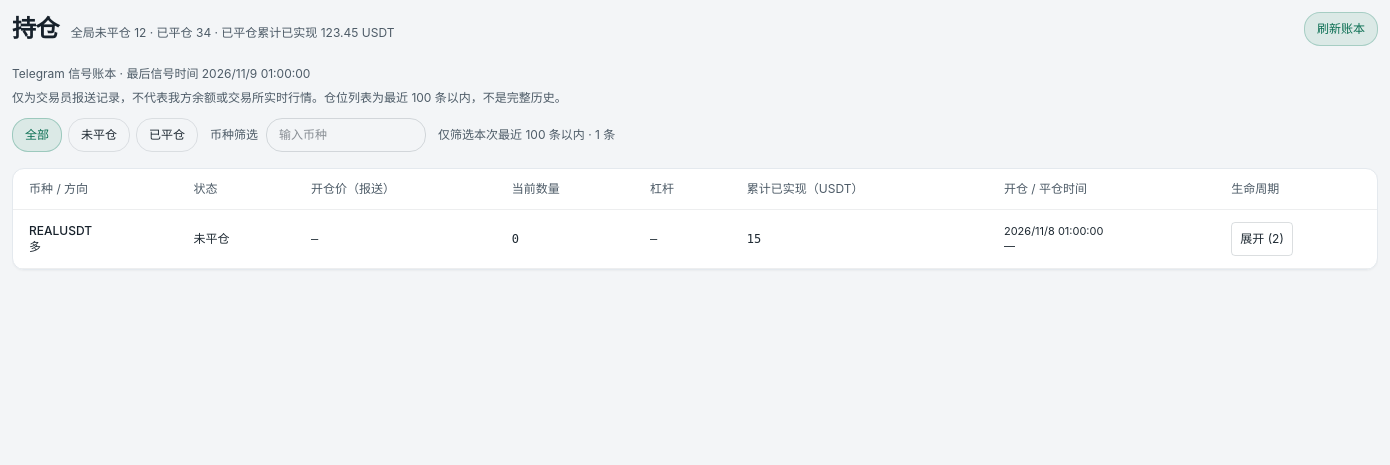
shared ledger › preserves null versus zero and expands cumulative event values without summing
Expected: the text "REALUSDT" is shown, 29,223 -> 92,238
Expected: the row with test id "position-1" shows "—", 311,232 -> 318,246
Click the button with aria-label "展开 REALUSDT 生命周期" at (1262, 239), box 1231,222 -> 1293,256
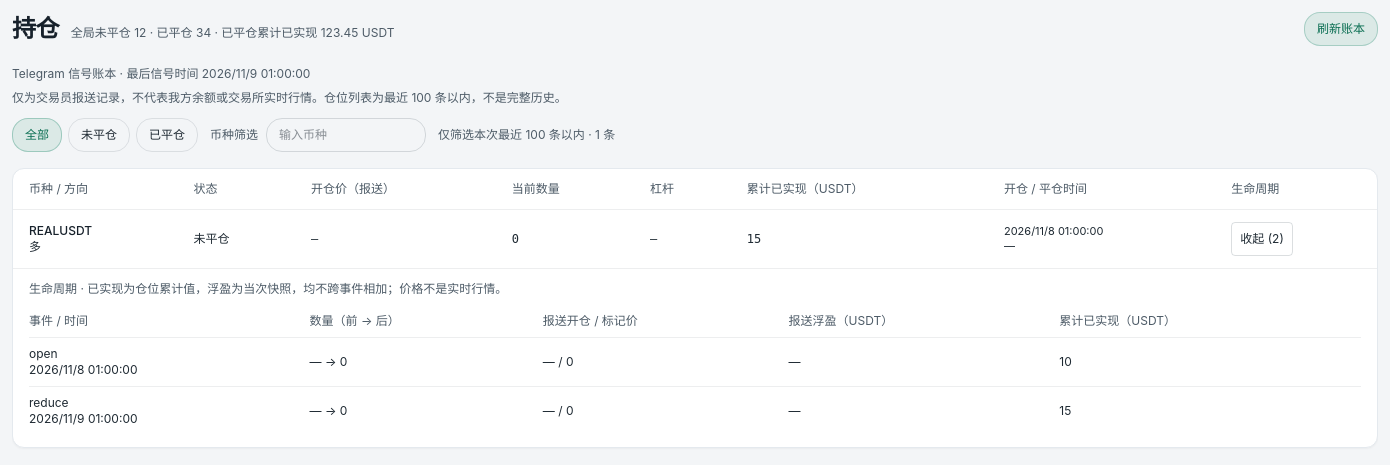
Expected: the text "10" is shown, 1059,338 -> 1361,386
Expected: the text "15" is shown 2 times, 731,210 -> 988,268; 1059,386 -> 1361,435
